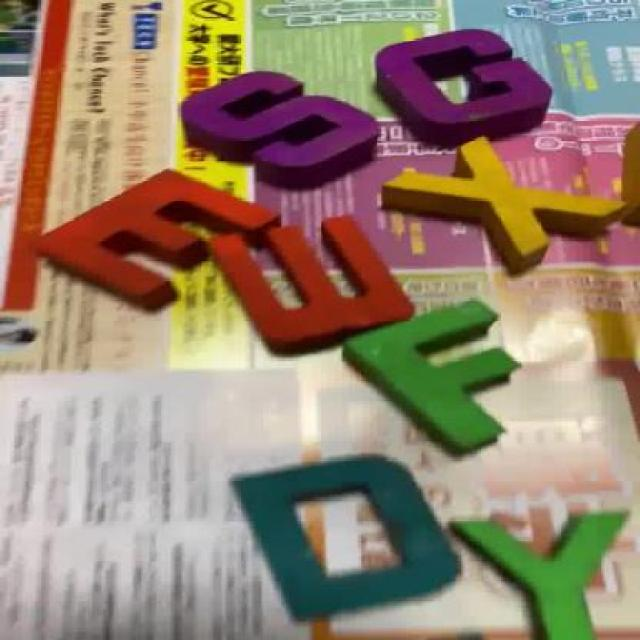D: (248, 460, 470, 611)
E: (34, 167, 283, 311)
F: (345, 306, 532, 454)
G: (377, 34, 557, 138)
S: (185, 73, 386, 184)
W: (222, 221, 408, 347)
X: (394, 141, 614, 270)
Y: (450, 506, 639, 640)
